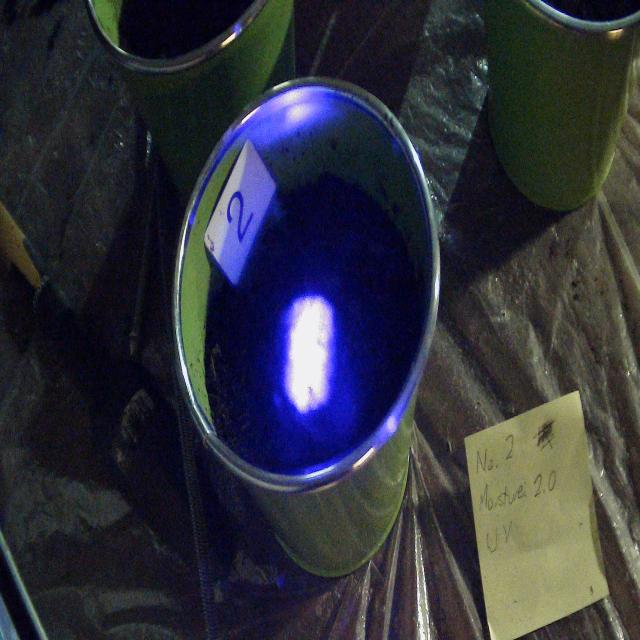soil-moisture-2.0: (279, 293, 335, 412)
